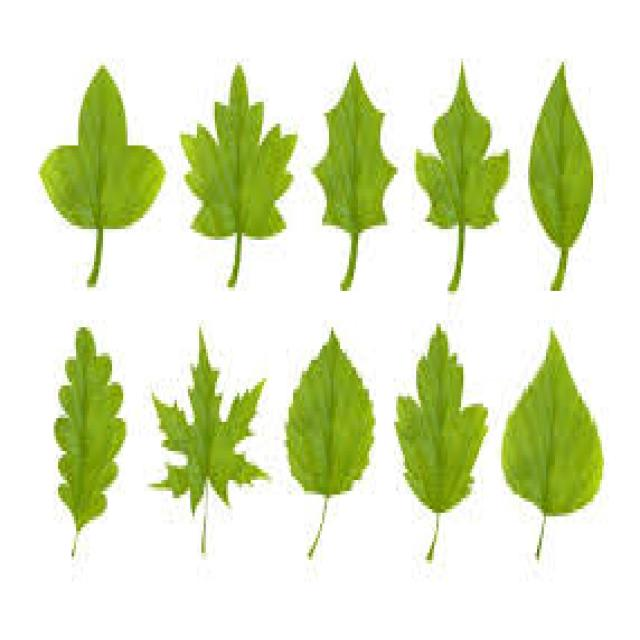leaves: (40, 67, 165, 285), (181, 65, 296, 285), (154, 331, 266, 551), (503, 333, 603, 558), (396, 327, 487, 560), (416, 67, 509, 289), (286, 331, 374, 558), (314, 63, 396, 289), (529, 65, 593, 289)
